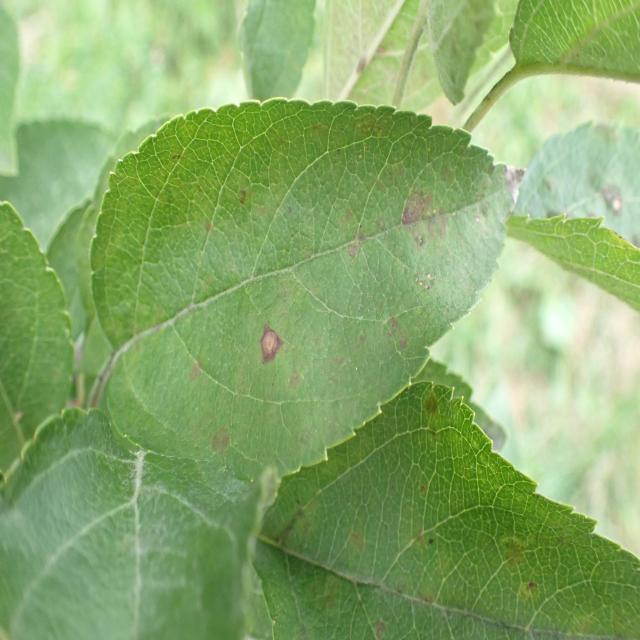frog-eye-leaf-spot: (87, 97, 517, 482), (248, 379, 640, 639)
